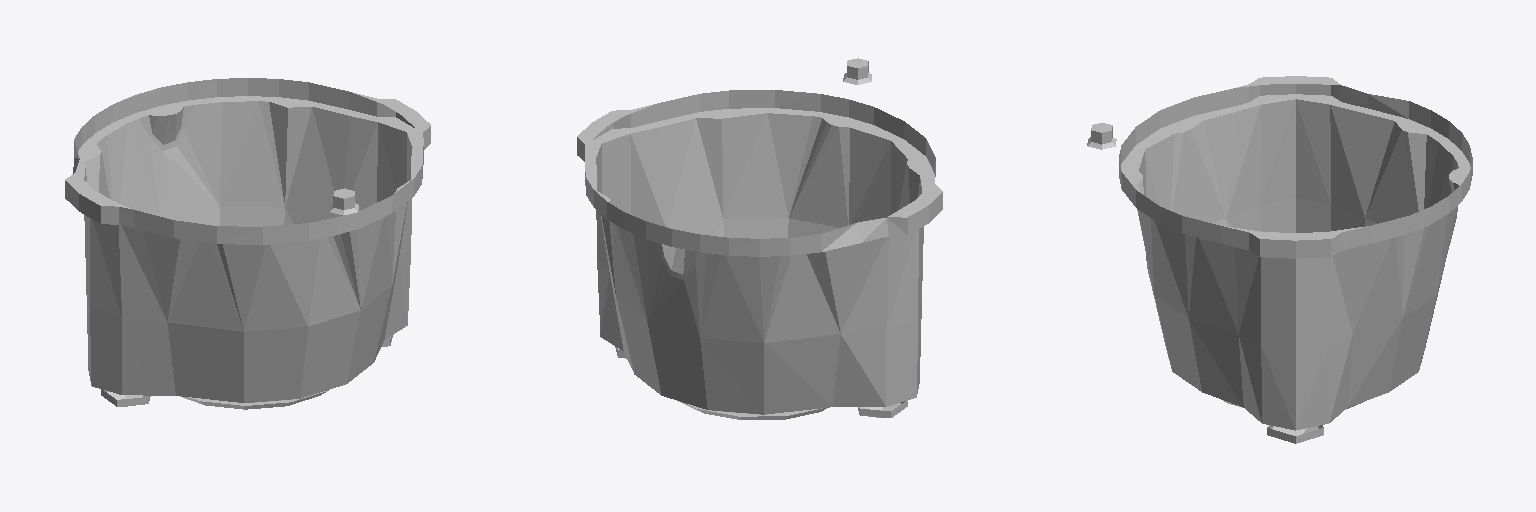
File: MinigunRearFixed.obj
3 renders of one model, left to right at view 1: azimuth 30°, elevation 25°; view 2: azimuth 150°, elevation 25°; view 3: azimuth 270°, elevation 25°, orthographic.
Parts seen in each view (by area): view 1: Minigun_Rear:0; view 2: Minigun_Rear:0; view 3: Minigun_Rear:0.
Part boxes in pixels (x1,y1,x2,y2): Minigun_Rear:0: (65,78,430,409); Minigun_Rear:0: (577,58,942,419); Minigun_Rear:0: (1087,76,1472,443).
Bounding box in the file's own units: 16.34 × 11.83 × 16.17.